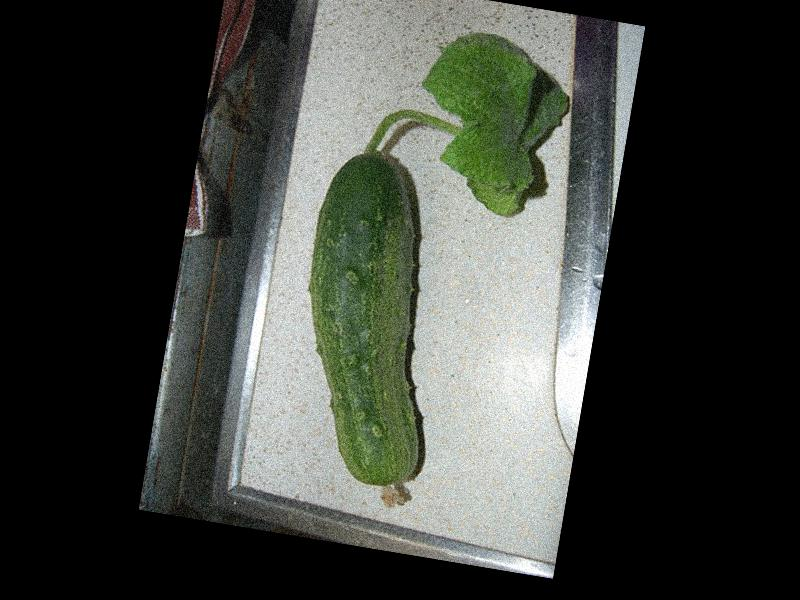Cucumber: (272, 141, 469, 511)
